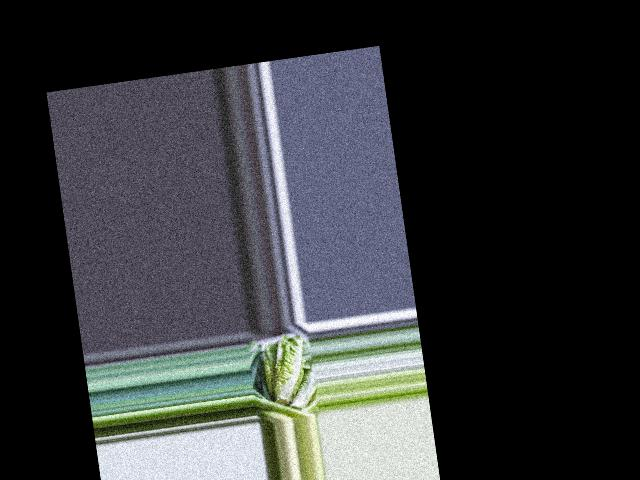lettuce: (259, 333, 311, 407)
